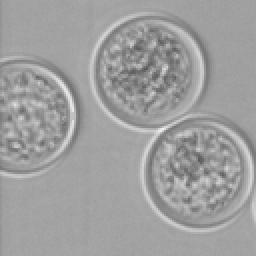picoshell: (90, 12, 206, 132), (140, 116, 252, 230), (0, 56, 78, 176)
